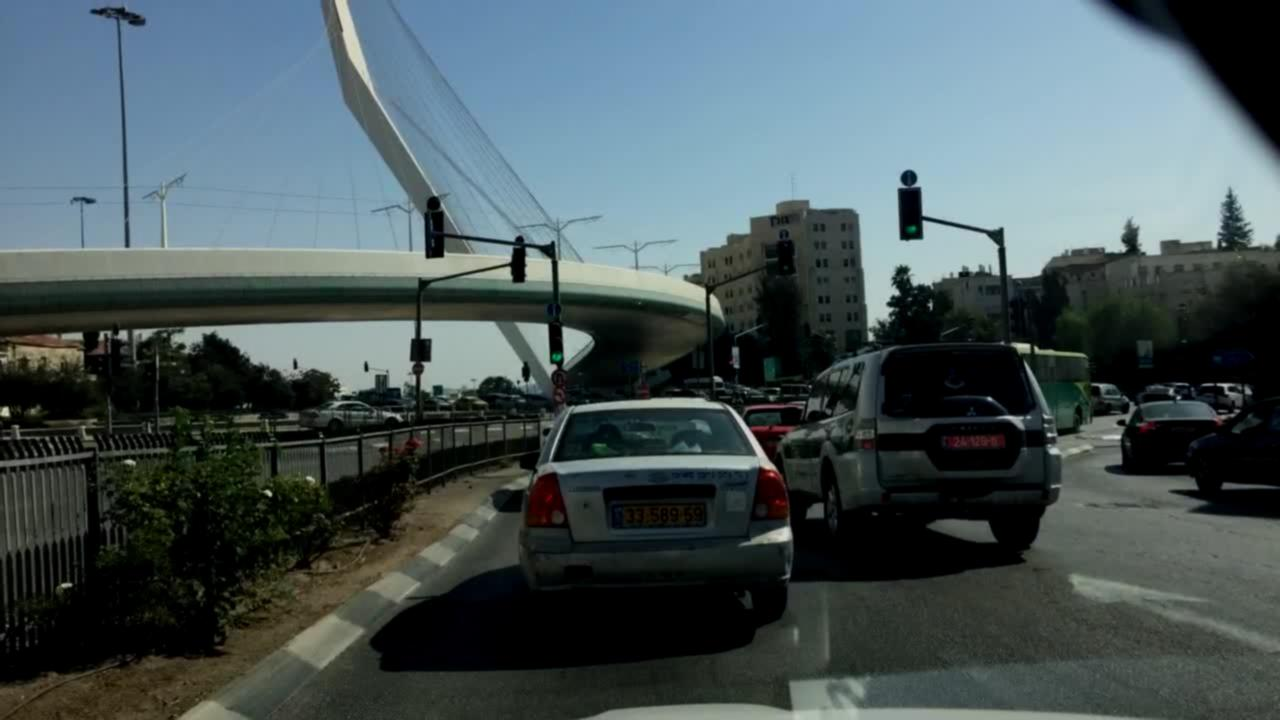Mitsubishi: (966, 405, 979, 420)
